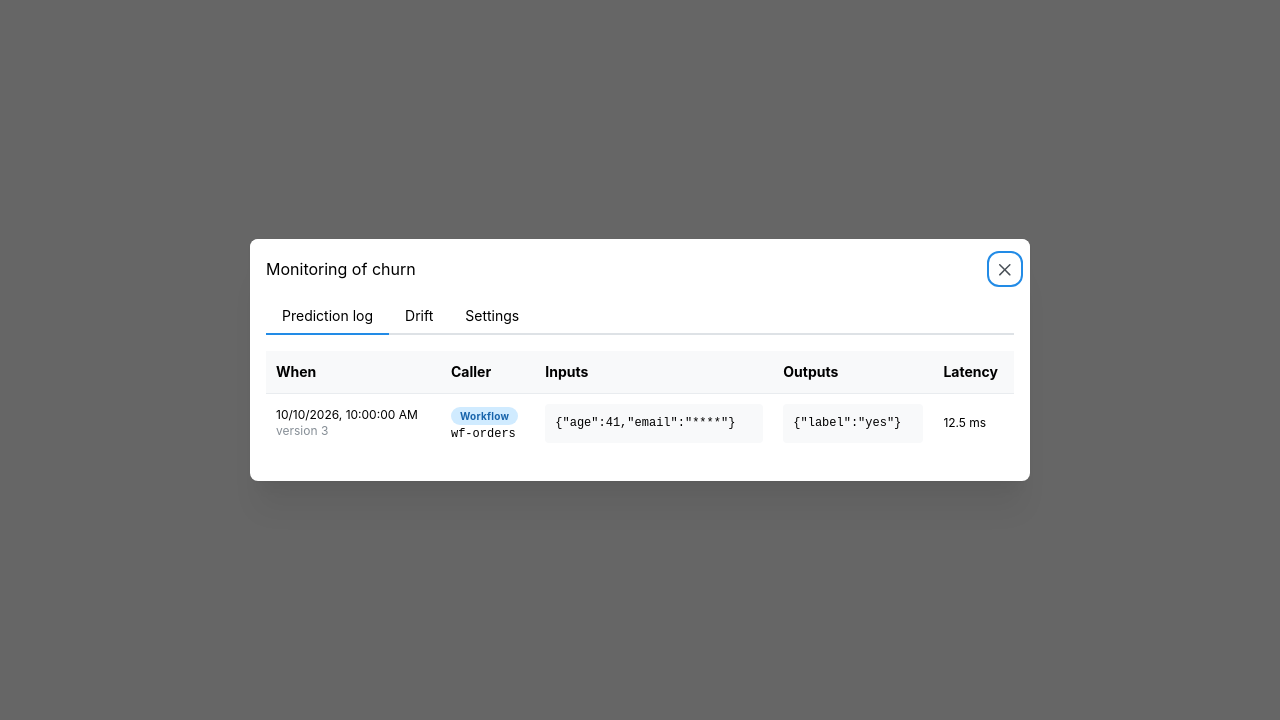
Test: Model monitoring › shows the drift of each feature against its thresholds
The image size is (1280, 720).
Click the tab "Drift": {"x": 419, "y": 317} [389,299,449,335]
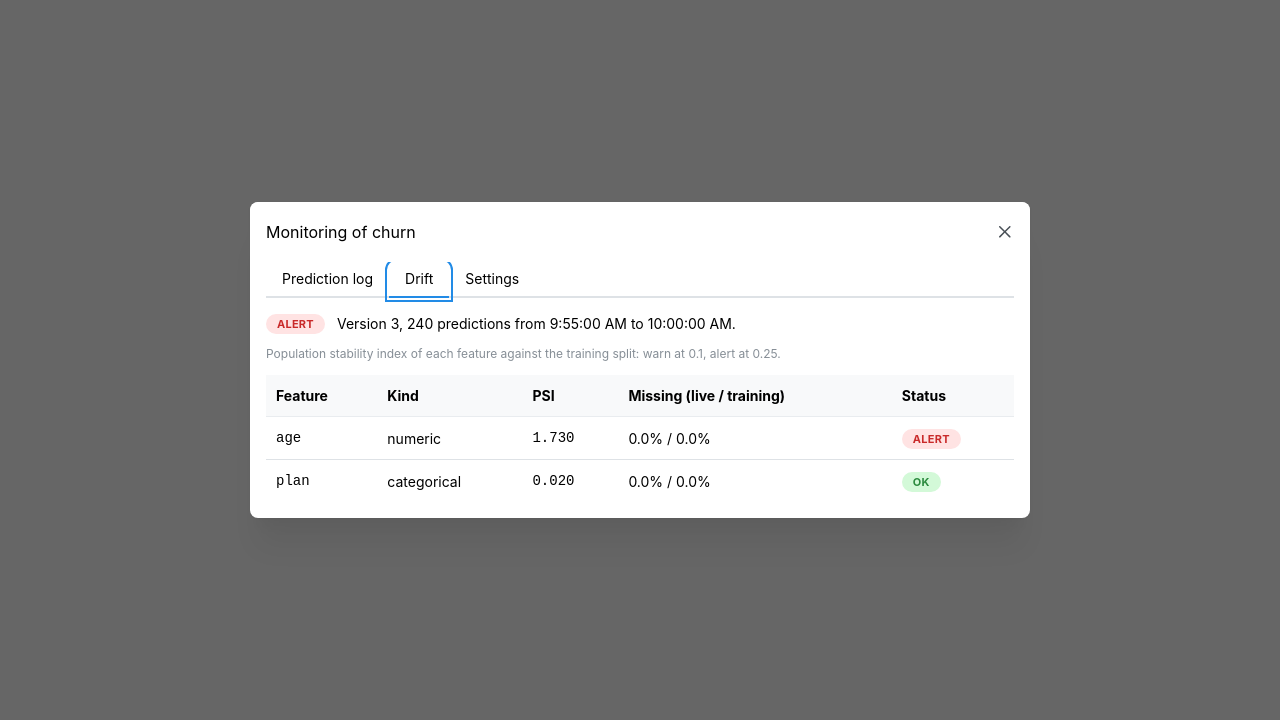
Result: the text "1.730" is shown at [522,417,618,460]
Result: the text "alert" in the row of "age" is shown at [913,432,950,446]
Result: the text "ok" is shown at [913,473,930,491]
